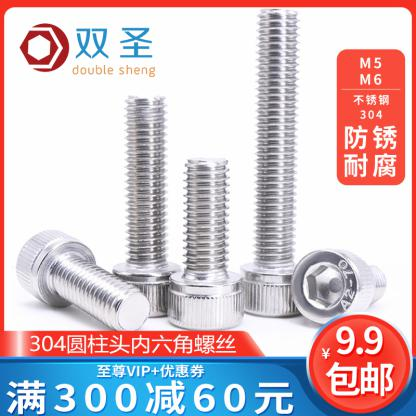FOD: (234, 7, 314, 318), (111, 90, 183, 319), (13, 227, 152, 331), (166, 155, 244, 331), (290, 244, 390, 330)
